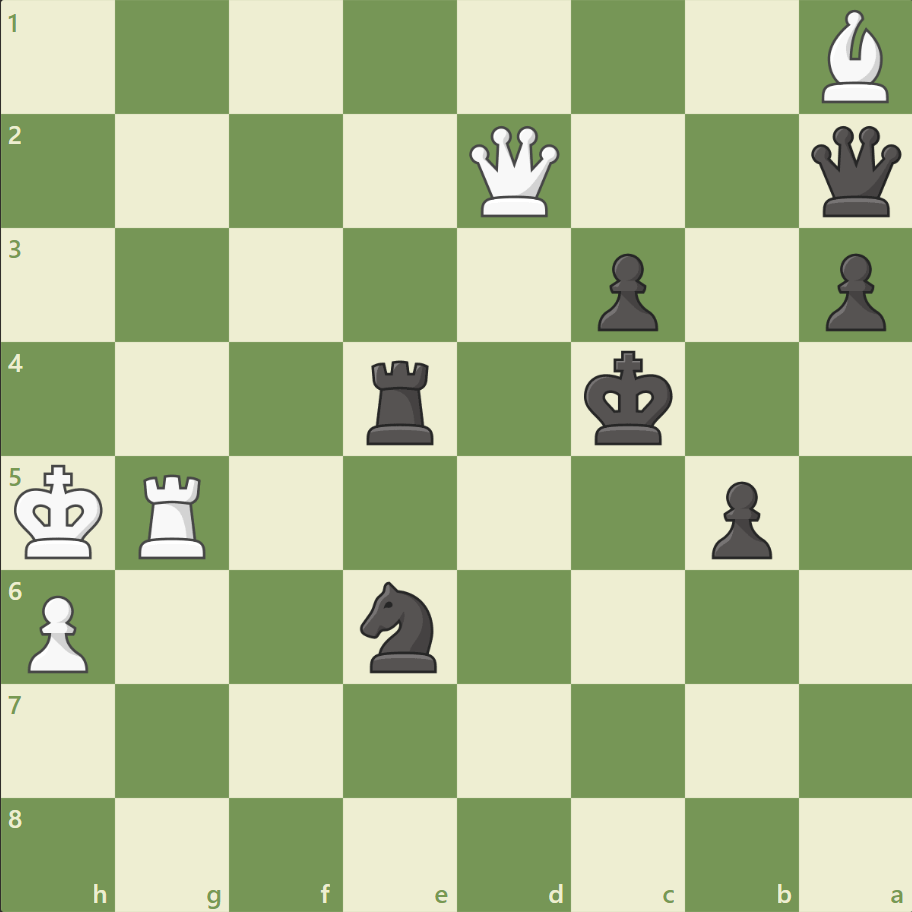B: (812, 6, 896, 109)
K: (11, 458, 111, 566)
P: (20, 586, 95, 677)
Q: (464, 122, 563, 222)
R: (133, 466, 215, 563)
k: (579, 344, 679, 452)
n: (351, 575, 449, 677)
p: (701, 473, 776, 564), (815, 246, 889, 337), (588, 246, 662, 337)
q: (805, 122, 904, 222)
r: (360, 352, 442, 449)
